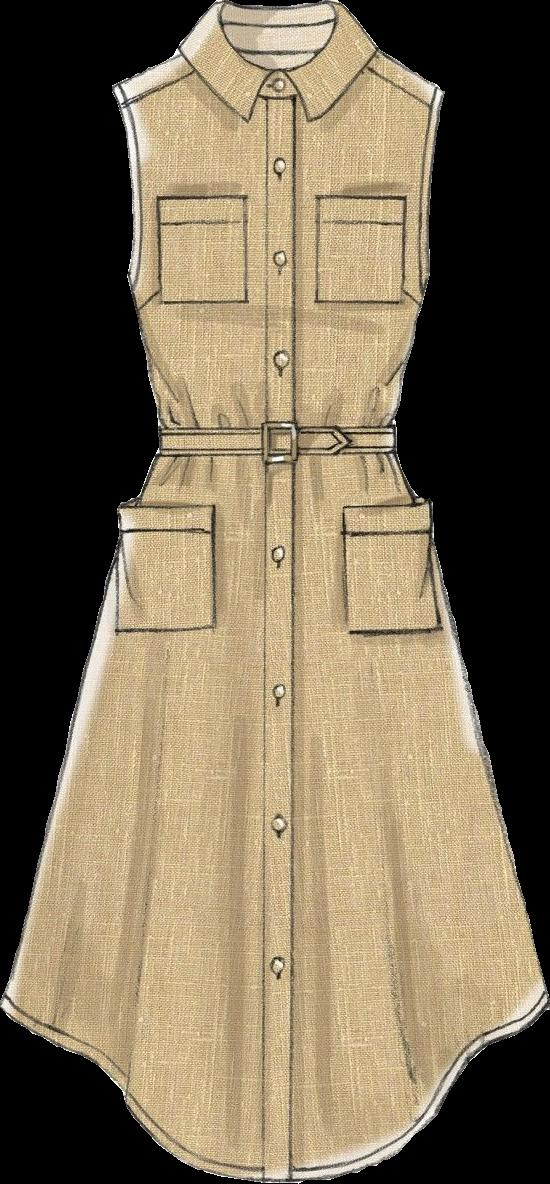Bodice: (112, 0, 444, 455)
Hemline: (0, 994, 549, 1183)
Neckline: (214, 0, 345, 84)
Skirt: (0, 456, 548, 1181)
Waistline: (152, 443, 398, 463)
